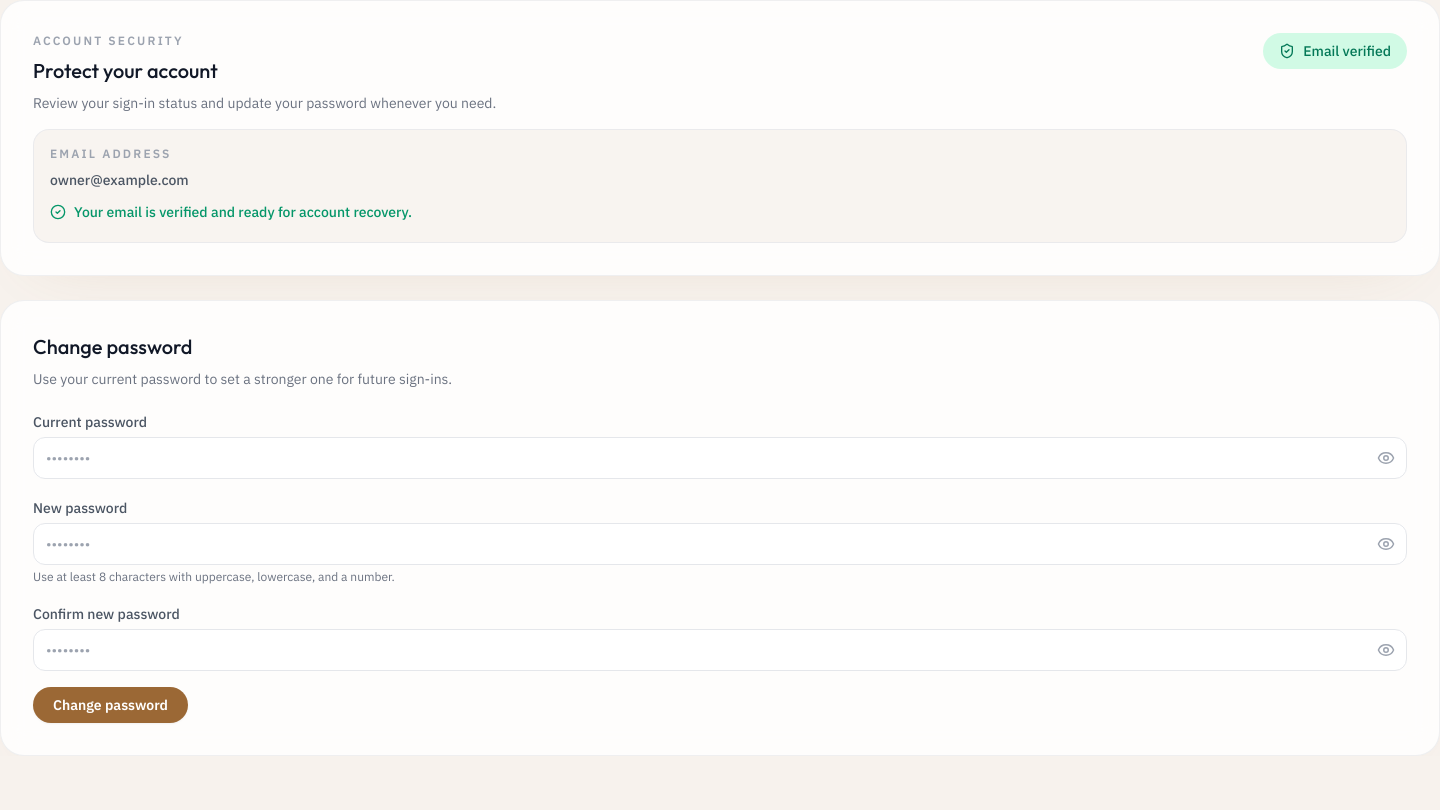
it: AccountSecurityPanel › changes the password successfully for a signed-in user
This screenshot has width=1440, height=810.
Type "CurrentPass1" into the password field labelled "Current password".
click(720, 458); type("CurrentPass1")  # box [33, 437, 1407, 479]
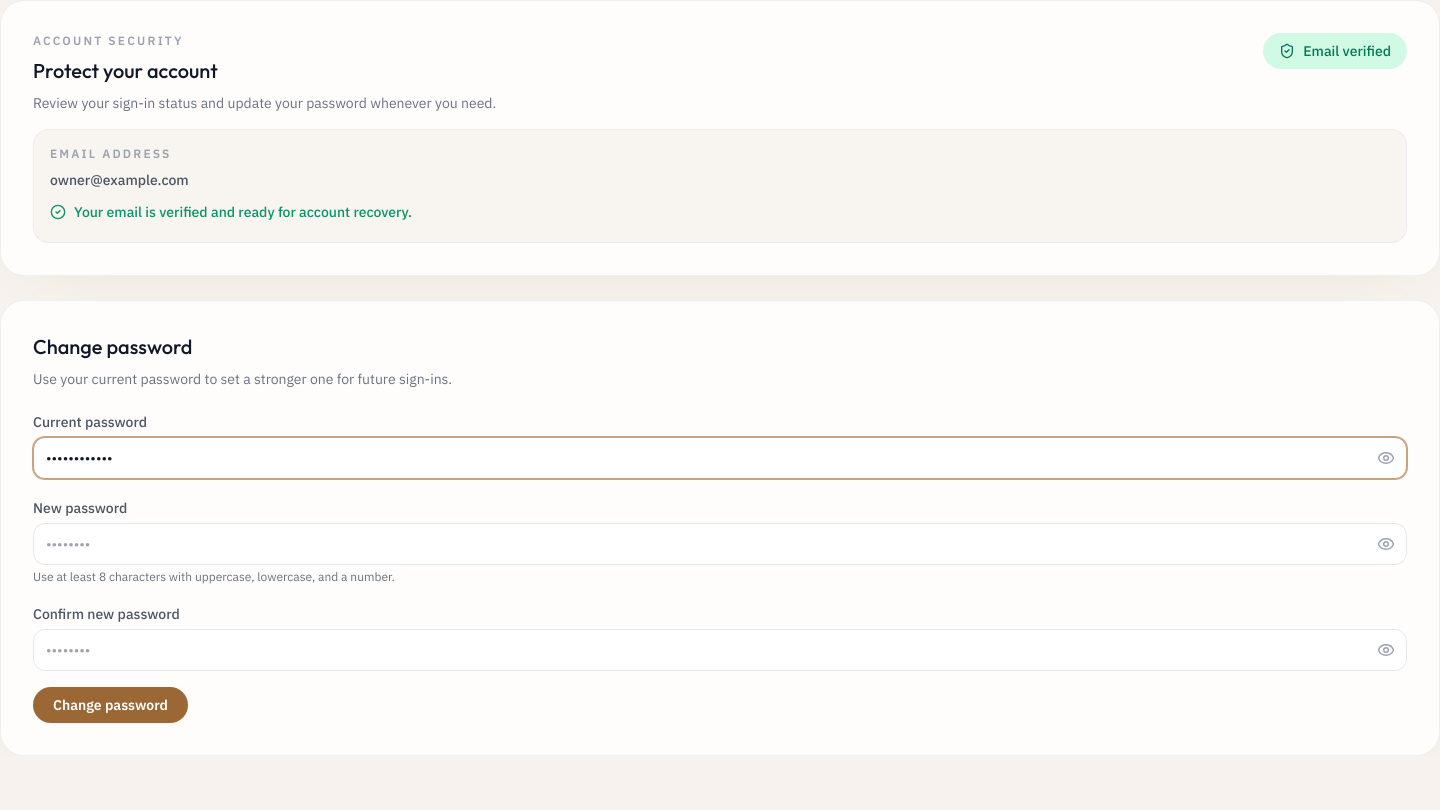
Type "StrongPass1" into the password field labelled "New password".
click(720, 544); type("StrongPass1")  # box [33, 523, 1407, 565]
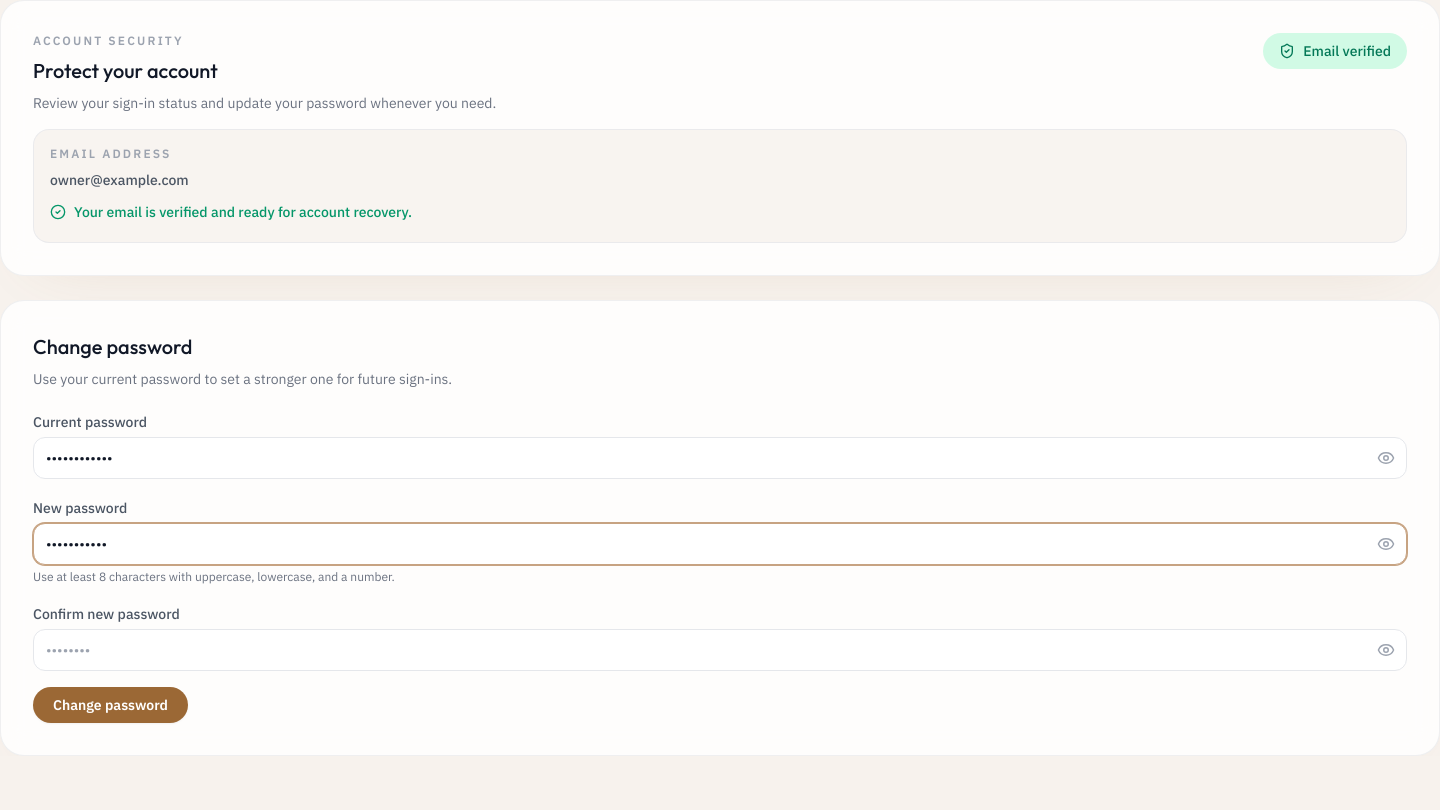
Type "StrongPass1" into the password field labelled "Confirm new password".
click(720, 650); type("StrongPass1")  # box [33, 629, 1407, 671]
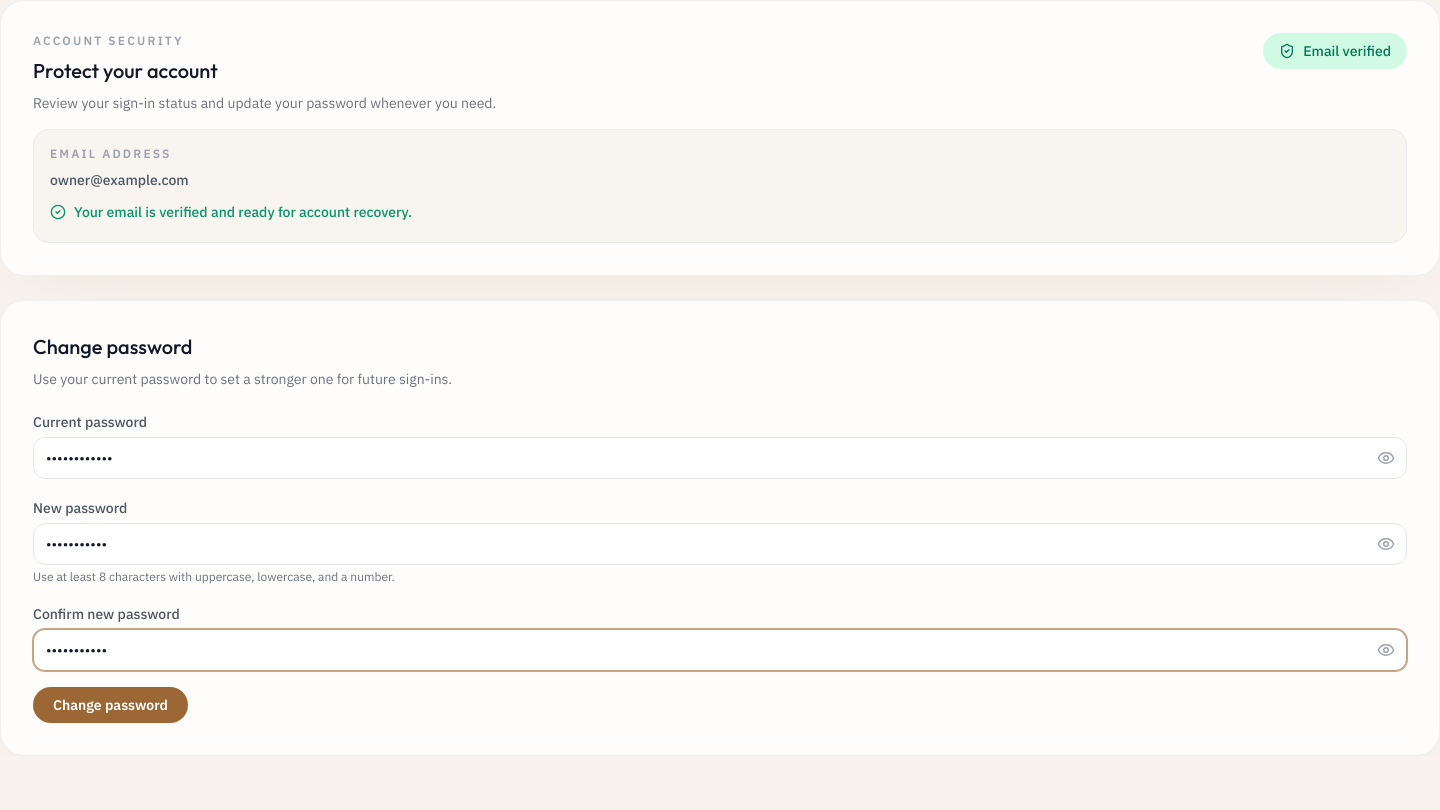
Click the button "Change password".
click(110, 705)  # box [33, 687, 188, 723]
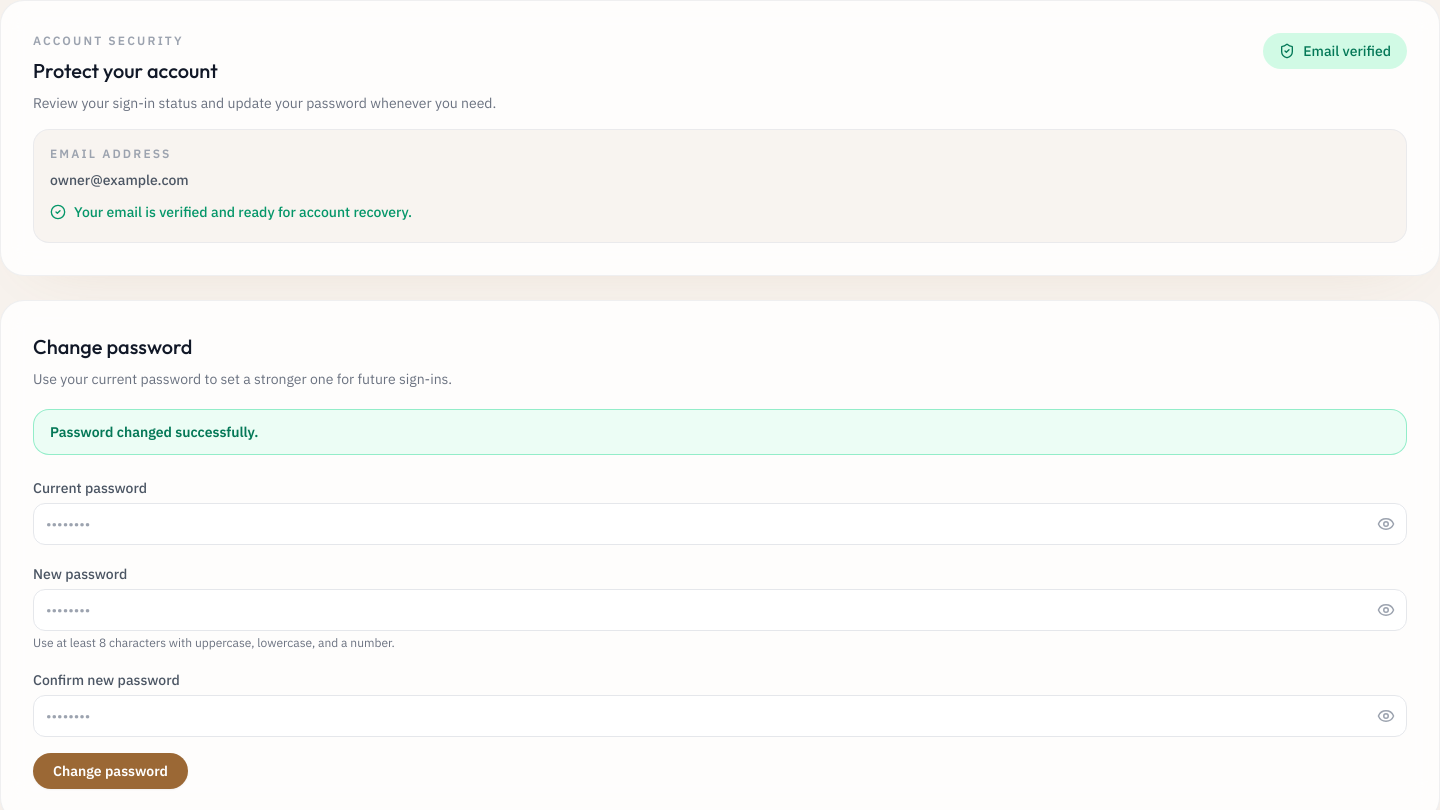
Now the text "Password changed successfully." is shown, box [50, 423, 258, 441]
